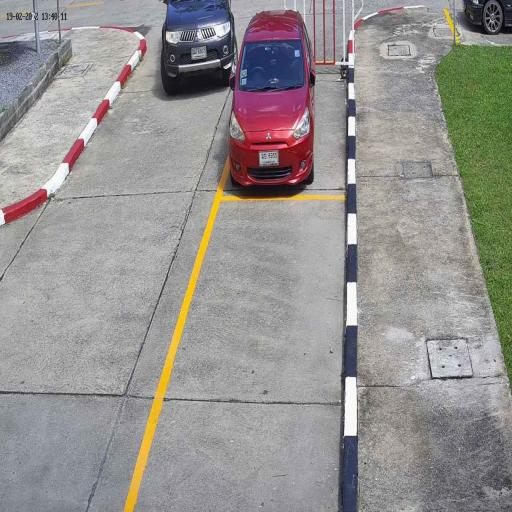car: (227, 8, 316, 190), (159, 0, 238, 95)
